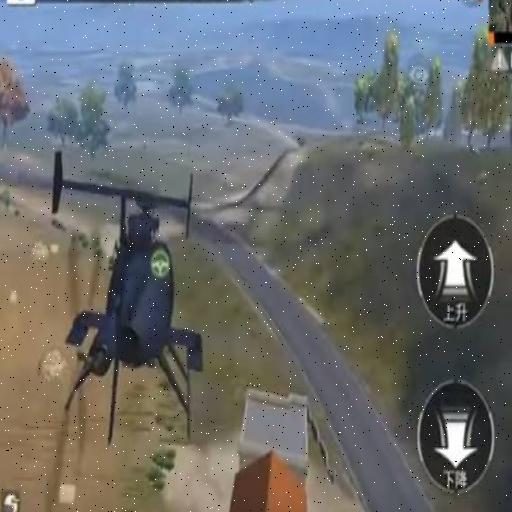helicopter: (49, 151, 209, 458)
